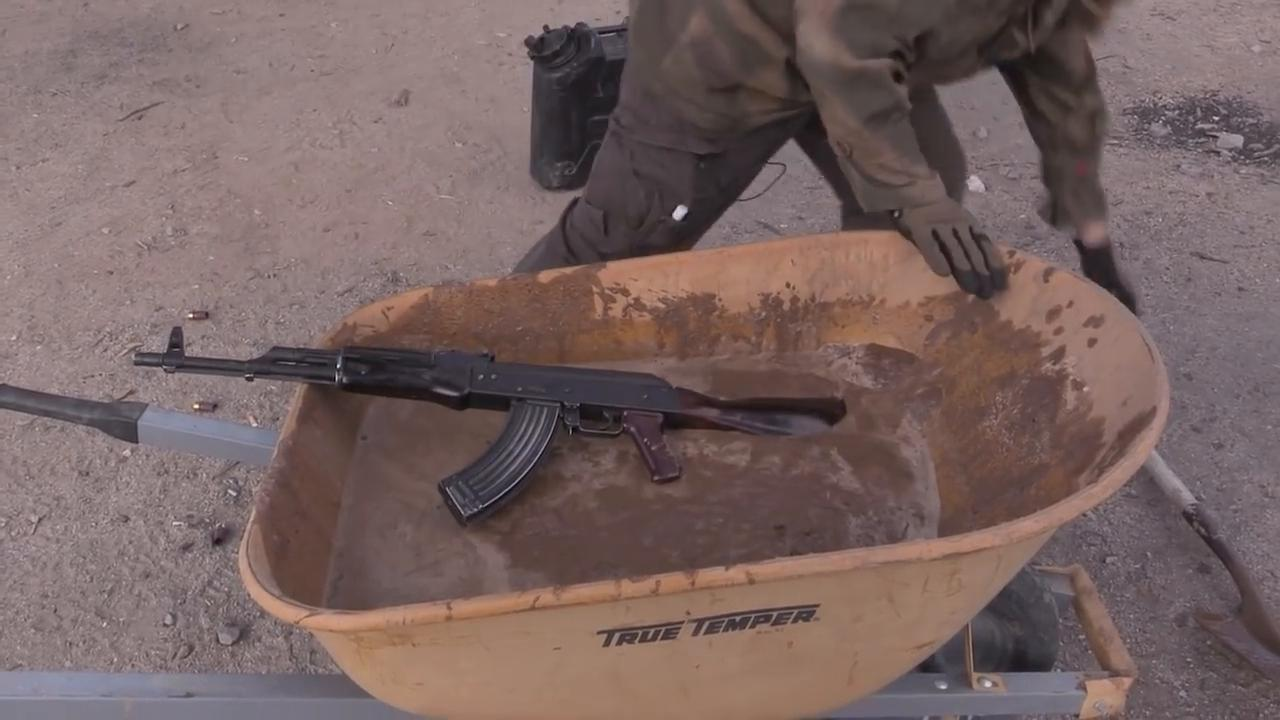AK47 Rifle: (132, 330, 841, 526)
